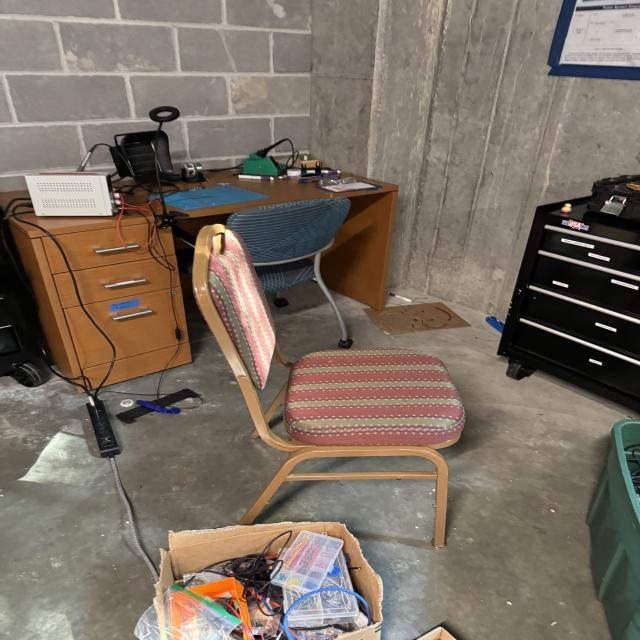chair: (188, 222, 466, 552)
